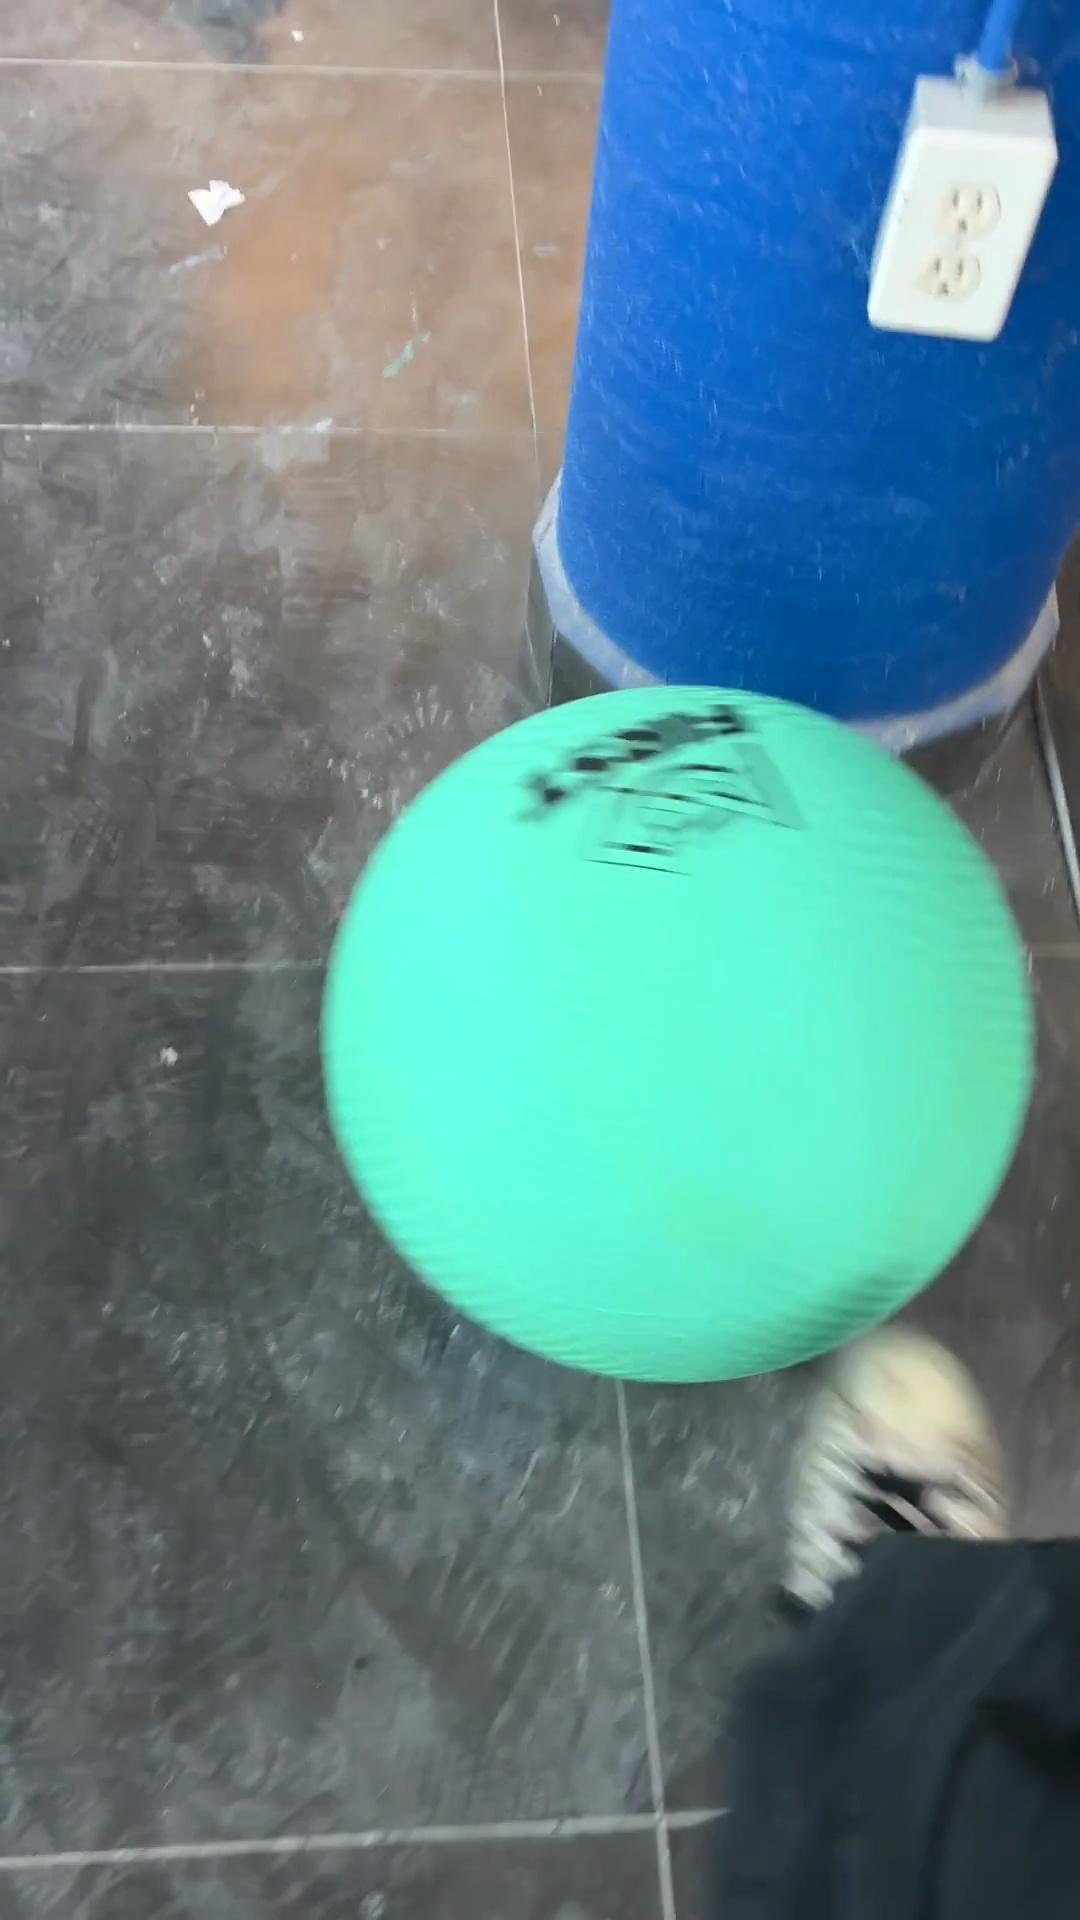ALGAE: (316, 680, 1038, 1387)
